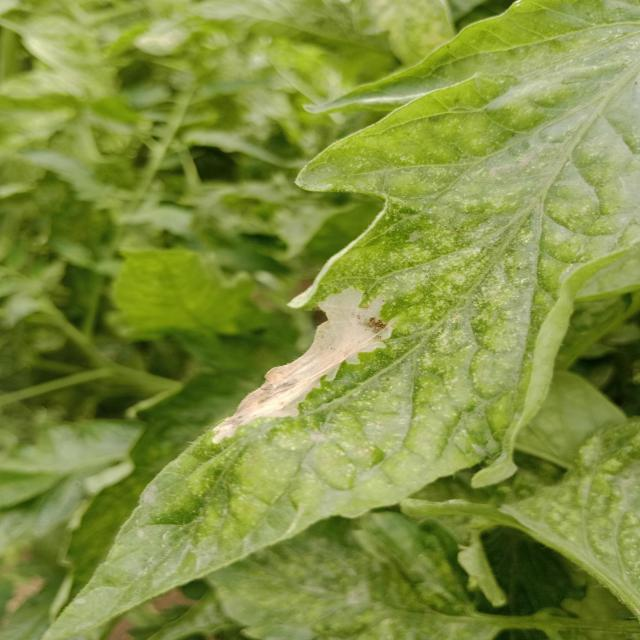Tuta absoluta: (189, 269, 408, 469)
